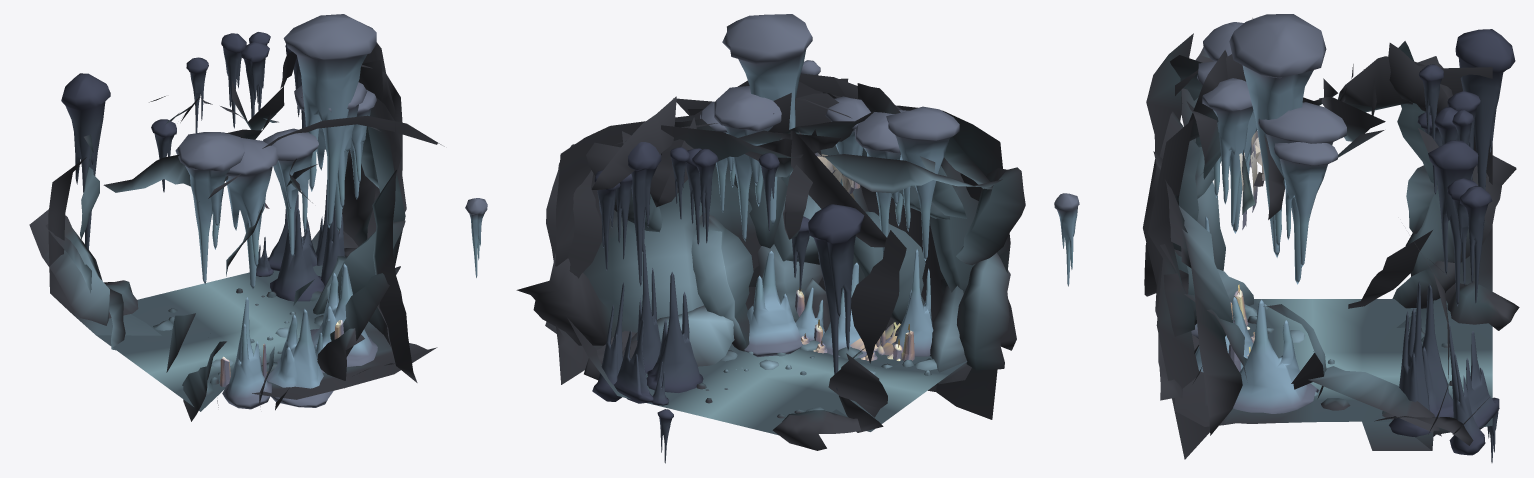
The model's file is Arctic_Tunnels_Turn_Right_A.glb.
3 renders of one model, left to right at view 1: azimuth 30°, elevation 25°; view 2: azimuth 150°, elevation 25°; view 3: azimuth 270°, elevation 25°, orthographic. The views are drawn at different scales.
Visible parts, largest first — view 1: Arctic_Tunnels_Turn_Right_A, Arctic_Tunnels_Icicle_Bright_A03 (1), Arctic_Tunnels_Icicle_Bright_A05, Arctic_Tunnels_Icicle_Bright_A07, Arctic_Tunnels_Icicle_Shadow_A02, Arctic_Tunnels_Icicle_Bright_A04 (3), Arctic_Tunnels_Icicle_Bright_A03, Arctic_Tunnels_Icicle_Bright_A03 (4), Arctic_Tunnels_Icicle_Shadow_A07 (10), Arctic_Tunnels_Icicle_Bright_A04 (4), Arctic_Tunnels_Icicle_Bright_A07 (2), Arctic_Tunnels_Icicle_Shadow_A07 (3) (+7 smaller); view 2: Arctic_Tunnels_Turn_Right_A, Arctic_Tunnels_Icicle_Bright_A03 (1), Arctic_Tunnels_Icicle_Shadow_A02, Arctic_Tunnels_Icicle_Bright_A05, Arctic_Tunnels_Icicle_Bright_A07 (2), Arctic_Tunnels_Icicle_Bright_A04 (4), Arctic_Tunnels_Icicle_Shadow_A07 (10), Arctic_Tunnels_Icicle_Bright_A07, Arctic_Tunnels_Icicle_Shadow_A07 (5), Arctic_Tunnels_Icicle_Bright_A03 (4), Arctic_Tunnels_Icicle_Shadow_A08 (1), Arctic_Tunnels_Icicle_Shadow_A07 (9) (+14 smaller); view 3: Arctic_Tunnels_Turn_Right_A, Arctic_Tunnels_Icicle_Bright_A03 (1), Arctic_Tunnels_Icicle_Bright_A04 (4), Arctic_Tunnels_Icicle_Shadow_A02, Arctic_Tunnels_Icicle_Bright_A07 (2), Arctic_Tunnels_Icicle_Bright_A07 (1), Arctic_Tunnels_Icicle_Bright_A03, Arctic_Tunnels_Icicle_Shadow_A07 (5), Arctic_Tunnels_Icicle_Shadow_A07 (9), Arctic_Tunnels_Icicle_Shadow_A07 (10), Arctic_Tunnels_Icicle_Shadow_A08, Arctic_Tunnels_Icicle_Shadow_A03 (+10 smaller).
Part boxes in pixels (box(x1,y1,x2,y2)): Arctic_Tunnels_Turn_Right_A: box(29, 43, 444, 421); Arctic_Tunnels_Icicle_Bright_A03 (1): box(283, 14, 376, 227); Arctic_Tunnels_Icicle_Bright_A05: box(175, 132, 244, 284); Arctic_Tunnels_Icicle_Bright_A07: box(225, 138, 278, 289); Arctic_Tunnels_Icicle_Shadow_A02: box(61, 73, 110, 249); Arctic_Tunnels_Icicle_Bright_A04 (3): box(266, 309, 333, 407); Arctic_Tunnels_Icicle_Bright_A03: box(263, 128, 318, 256); Arctic_Tunnels_Icicle_Bright_A03 (4): box(222, 297, 272, 409); Arctic_Tunnels_Icicle_Shadow_A07 (10): box(270, 192, 324, 301); Arctic_Tunnels_Icicle_Bright_A04 (4): box(298, 263, 377, 367); Arctic_Tunnels_Icicle_Bright_A07 (2): box(294, 82, 367, 231); Arctic_Tunnels_Icicle_Shadow_A07 (3): box(241, 42, 269, 117); Arctic_Tunnels_Turn_Right_A: box(516, 73, 1025, 450); Arctic_Tunnels_Icicle_Bright_A03 (1): box(722, 14, 812, 224); Arctic_Tunnels_Icicle_Shadow_A02: box(808, 204, 864, 390); Arctic_Tunnels_Icicle_Bright_A05: box(886, 106, 959, 260); Arctic_Tunnels_Icicle_Bright_A07 (2): box(713, 86, 781, 241); Arctic_Tunnels_Icicle_Bright_A04 (4): box(744, 251, 802, 356); Arctic_Tunnels_Icicle_Shadow_A07 (10): box(646, 272, 703, 392); Arctic_Tunnels_Icicle_Bright_A07: box(854, 110, 908, 255); Arctic_Tunnels_Icicle_Shadow_A07 (5): box(628, 142, 661, 286); Arctic_Tunnels_Icicle_Bright_A03 (4): box(892, 249, 933, 356); Arctic_Tunnels_Icicle_Shadow_A08 (1): box(614, 319, 653, 403); Arctic_Tunnels_Icicle_Shadow_A07 (9): box(637, 244, 660, 373); Arctic_Tunnels_Turn_Right_A: box(1143, 18, 1519, 459); Arctic_Tunnels_Icicle_Bright_A03 (1): box(1229, 14, 1326, 257); Arctic_Tunnels_Icicle_Bright_A04 (4): box(1233, 299, 1319, 413); Arctic_Tunnels_Icicle_Shadow_A02: box(1455, 29, 1515, 228); Arctic_Tunnels_Icicle_Bright_A07 (2): box(1258, 102, 1346, 284); Arctic_Tunnels_Icicle_Bright_A07 (1): box(1274, 142, 1337, 266); Arctic_Tunnels_Icicle_Bright_A03: box(1202, 78, 1253, 227); Arctic_Tunnels_Icicle_Shadow_A07 (5): box(1428, 140, 1478, 306); Arctic_Tunnels_Icicle_Shadow_A07 (9): box(1389, 281, 1435, 437); Arctic_Tunnels_Icicle_Shadow_A07 (10): box(1408, 284, 1453, 417); Arctic_Tunnels_Icicle_Shadow_A08: box(1448, 322, 1485, 455); Arctic_Tunnels_Icicle_Shadow_A03: box(1460, 186, 1492, 303).
Size of what is drawn, in the model's own units: 11.82 by 11.21 by 10.85.
